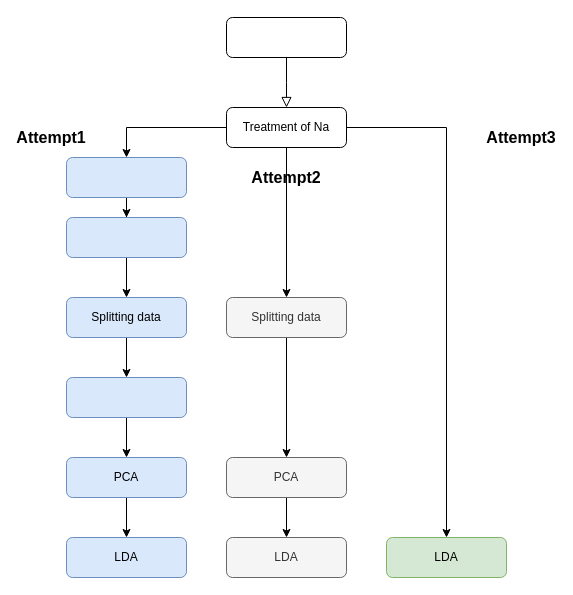
The diagram is 573 pixels wide and 595 high, and some of its shapes have lost their labels. Each missing label, with the box of its shape:
Data normalization: (66, 376, 186, 418)
Dummies: (66, 216, 186, 258)
Feature selection: (66, 156, 186, 198)
Upload data: (226, 16, 346, 58)
